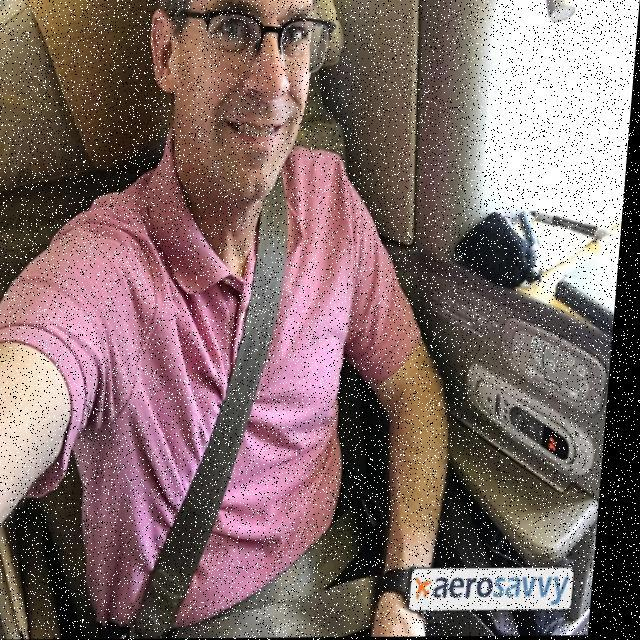seatbelt: (60, 175, 318, 639)
